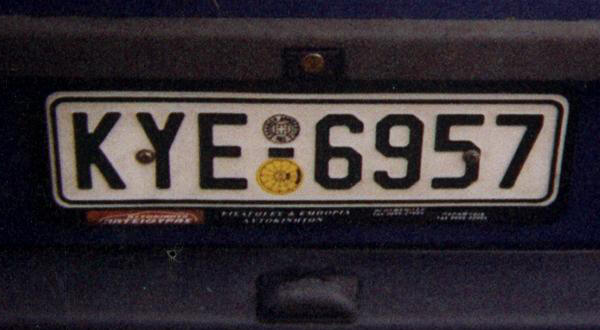license_plate: (46, 92, 569, 210)
